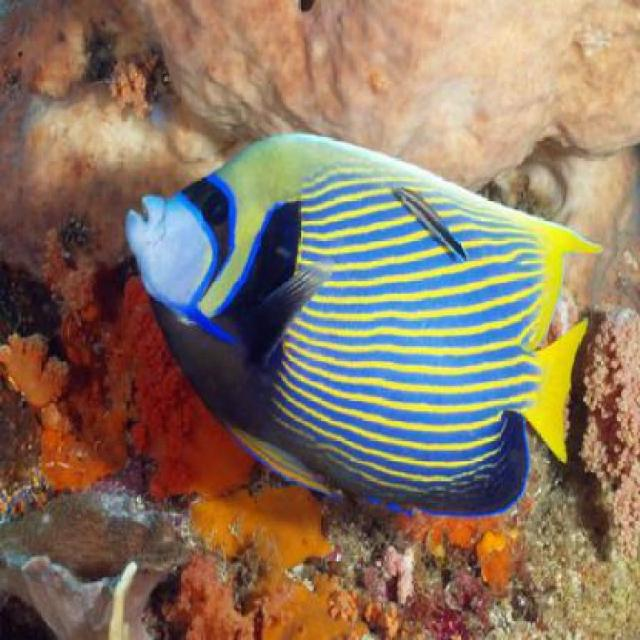AngelFish: (126, 133, 602, 514)
